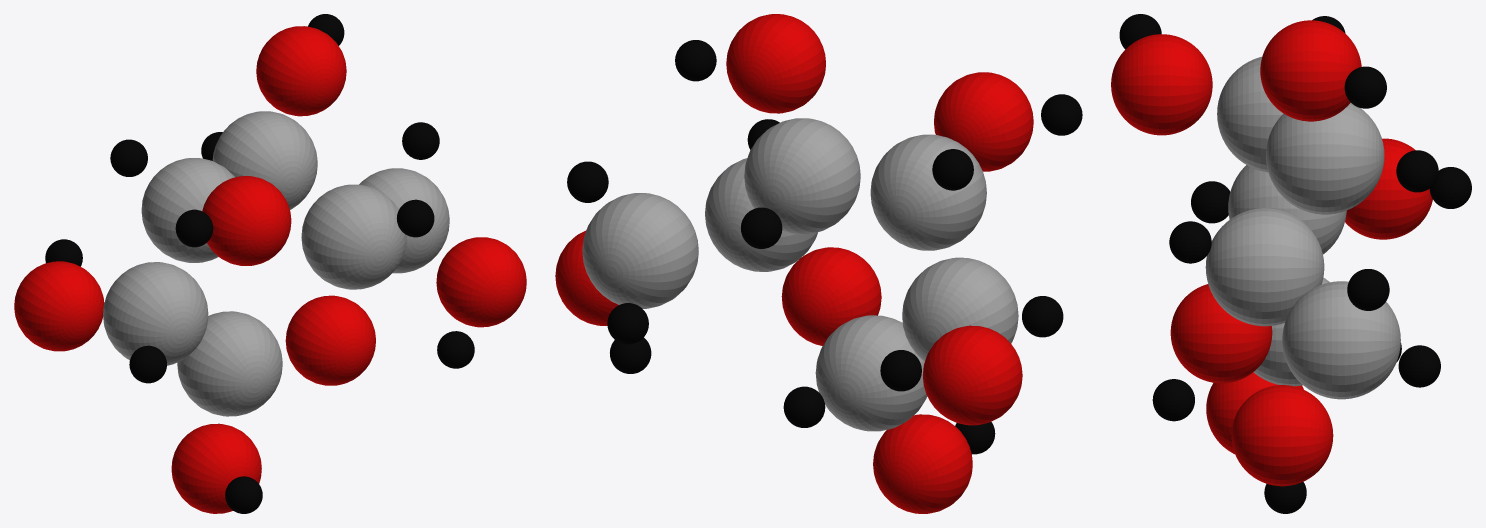
Rendered from Glucose.glb.
The picture shows the model from 3 angles, left to right: view 1: azimuth 30°, elevation 25°; view 2: azimuth 150°, elevation 25°; view 3: azimuth 270°, elevation 25°; orthographic projection. The views are drawn at different scales.
Parts seen in each view (by area): view 1: world; view 2: world; view 3: world.
Boxes of the visible parts, left/top/right/bottom form: world: left=14, top=14, right=526, bottom=513; world: left=555, top=14, right=1082, bottom=513; world: left=1111, top=14, right=1471, bottom=513.
Size of the model in its own units: 6.98 by 6.37 by 4.26.
